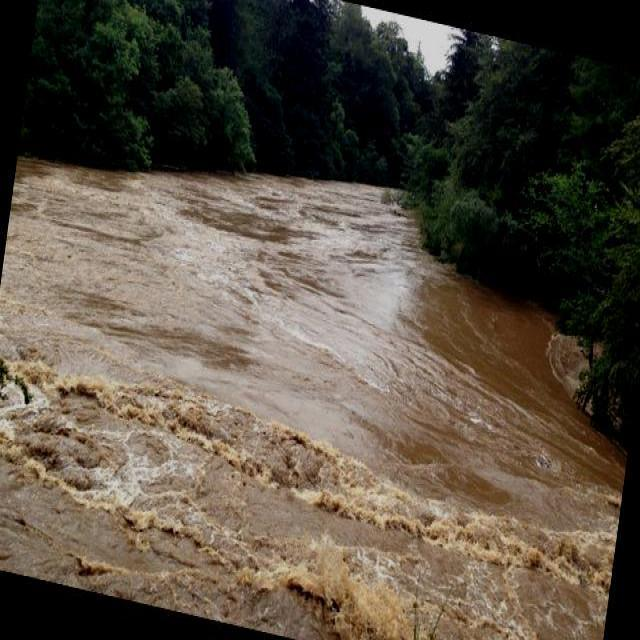flood: (0, 92, 639, 639)
